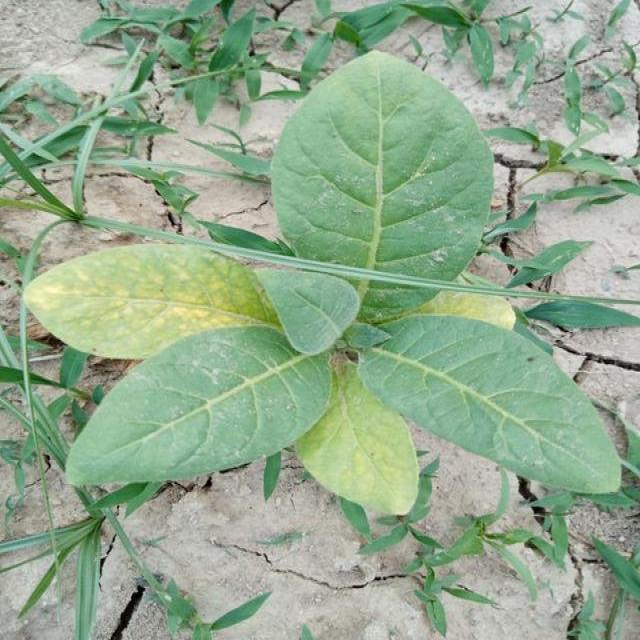crop: (25, 52, 621, 493)
